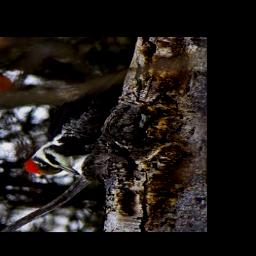Woodpecker: (19, 82, 121, 177)
